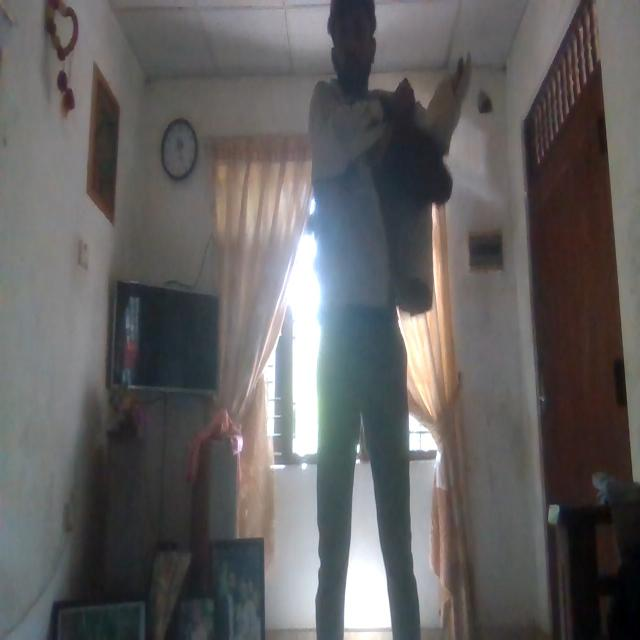Jacket_Wearer: (306, 82, 462, 324)
Person: (300, 0, 436, 640)
